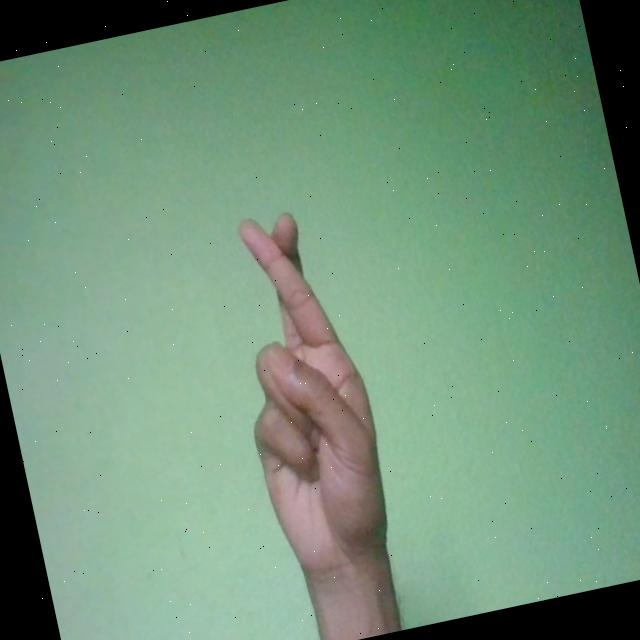Ok: (208, 201, 404, 591)
